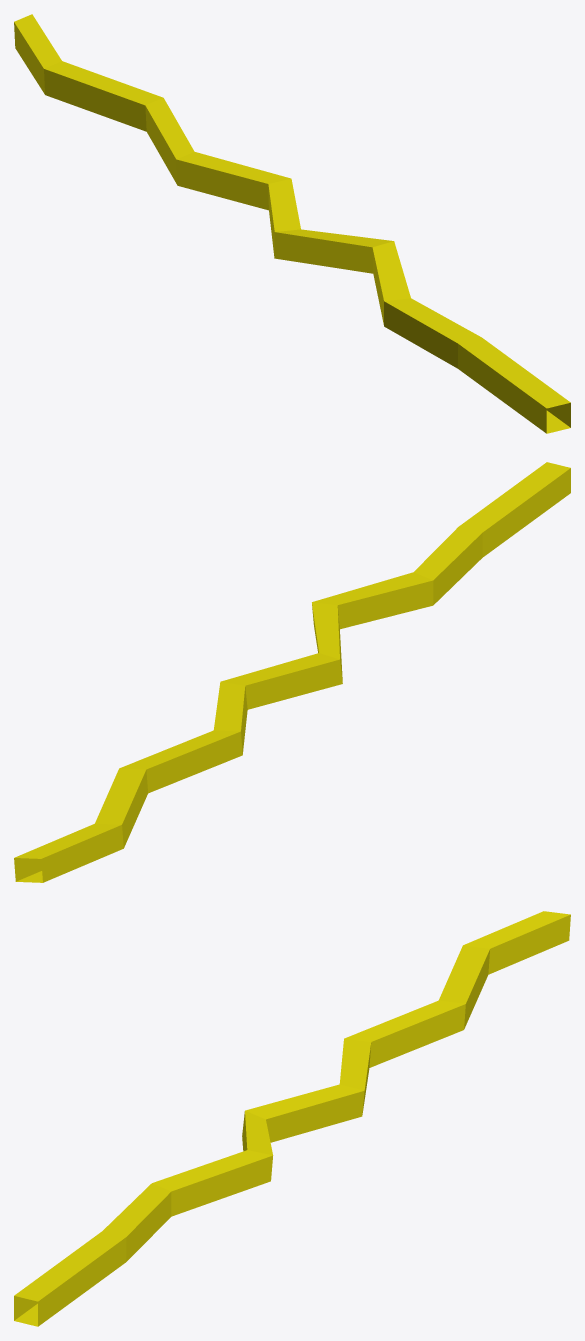
File: PonteiroPerseguidor.dae
3 renders of one model, top to bottom at view 1: azimuth 30°, elevation 25°; view 2: azimuth 150°, elevation 25°; view 3: azimuth 330°, elevation 25°, orthographic.
Visible parts, largest first — view 1: Cube.003; view 2: Cube.003; view 3: Cube.003.
Boxes of the visible parts, bbox=[...] form: Cube.003: bbox=[14, 14, 570, 433]; Cube.003: bbox=[14, 462, 570, 882]; Cube.003: bbox=[14, 911, 570, 1326].
Bounding box in the file's own units: 0.1247 × 1.45 × 0.0503.
